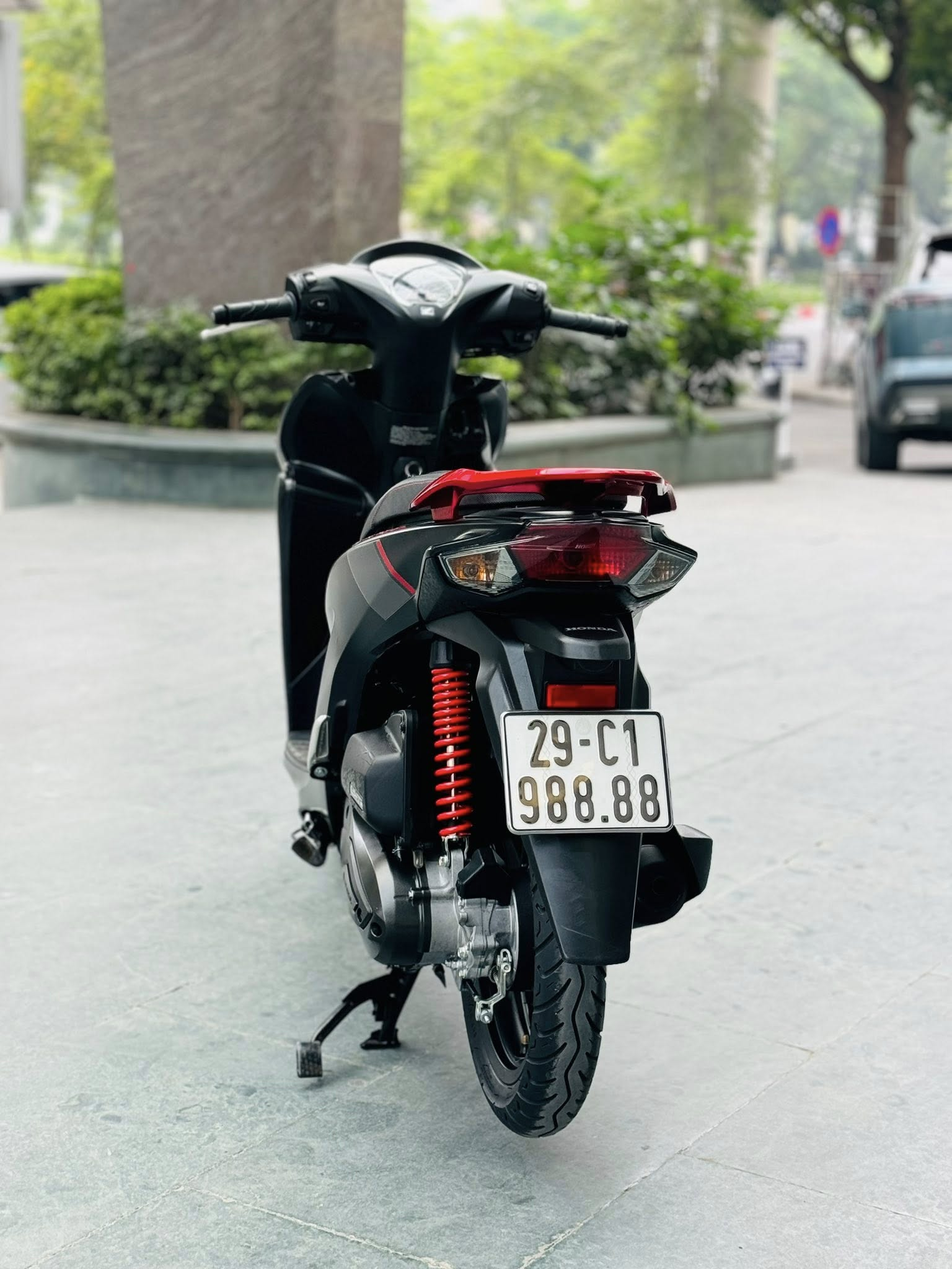bien_so: (492, 703, 682, 841)
